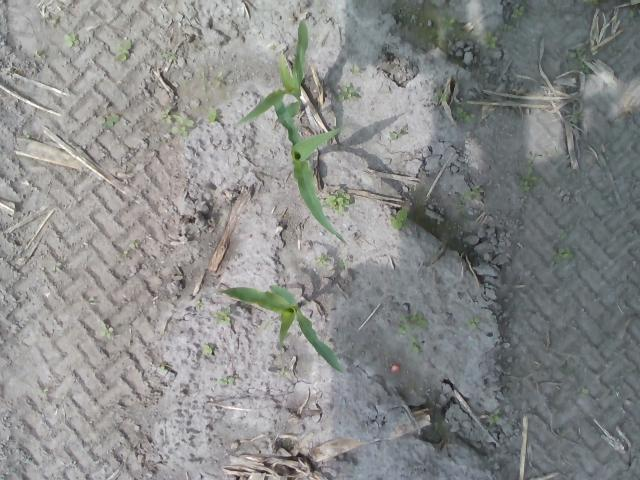Maize: (269, 94, 349, 248), (218, 282, 346, 376), (240, 20, 310, 128)
Weeds: (418, 8, 457, 48), (397, 312, 428, 354), (159, 108, 196, 136), (562, 46, 594, 74), (322, 186, 354, 210), (456, 184, 485, 208), (517, 166, 540, 190), (387, 206, 410, 230), (332, 84, 359, 104), (114, 39, 134, 63), (94, 318, 114, 338), (454, 104, 476, 122), (551, 248, 574, 264), (101, 112, 121, 128), (214, 308, 234, 324), (481, 30, 498, 48), (63, 31, 78, 48), (510, 3, 526, 17), (432, 90, 448, 104), (206, 108, 222, 122), (126, 238, 142, 252), (160, 51, 178, 61), (583, 0, 602, 9), (79, 296, 96, 306), (466, 316, 480, 328), (348, 65, 360, 78), (576, 387, 591, 397), (220, 375, 236, 384), (316, 254, 328, 266), (203, 343, 215, 354), (487, 414, 500, 424), (388, 130, 400, 140), (628, 6, 637, 18), (194, 298, 204, 308), (158, 366, 168, 376)
